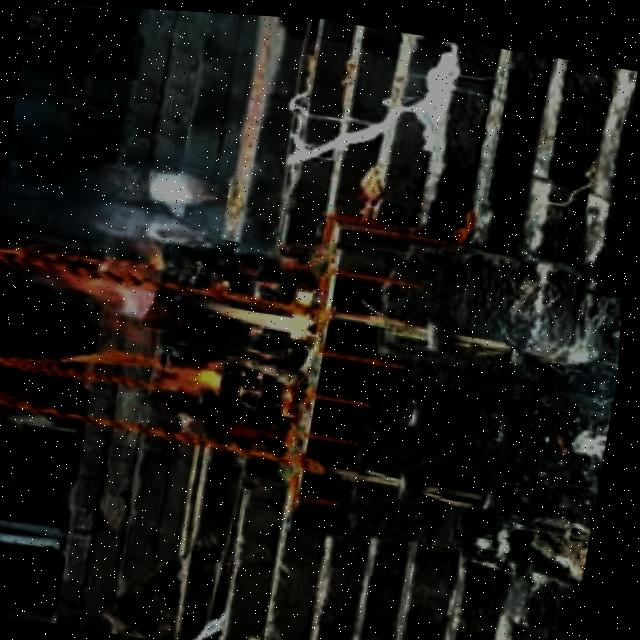Fire: (58, 253, 326, 417)
